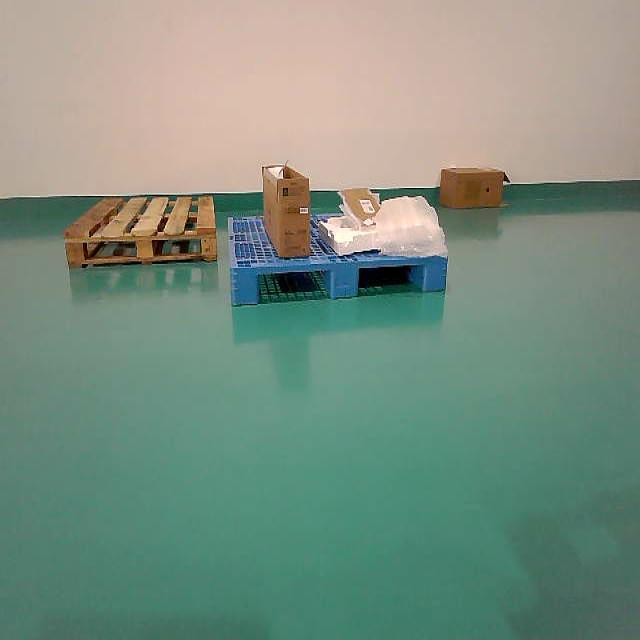euro: (65, 195, 219, 271)
